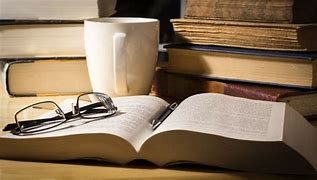book: (2, 95, 317, 178)
